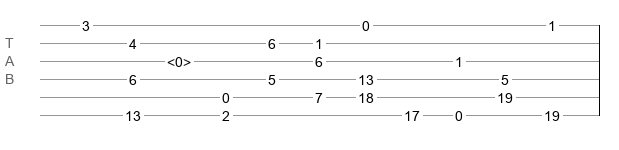0: (222, 90, 230, 100), (362, 18, 370, 28), (455, 108, 463, 118)
1: (315, 36, 323, 46), (455, 54, 463, 64), (548, 18, 556, 28)
13: (125, 108, 141, 118), (358, 72, 374, 82)
17: (404, 108, 420, 118)
18: (358, 90, 374, 100)
19: (497, 90, 513, 100), (544, 108, 560, 118)
2: (222, 108, 230, 118)
3: (82, 18, 90, 28)
4: (129, 36, 137, 46)
5: (268, 72, 276, 82), (501, 72, 509, 82)
6: (129, 72, 137, 82), (268, 36, 276, 46), (315, 54, 323, 64)
7: (315, 90, 323, 100)
harmonic: (167, 54, 191, 64)
